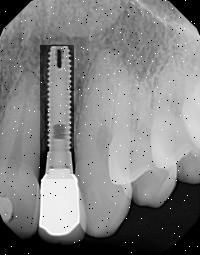Biomet 3i: (40, 45, 74, 179)
